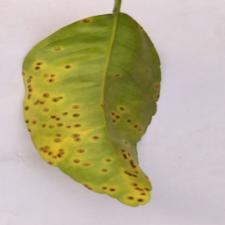Canker: (15, 12, 176, 212)
